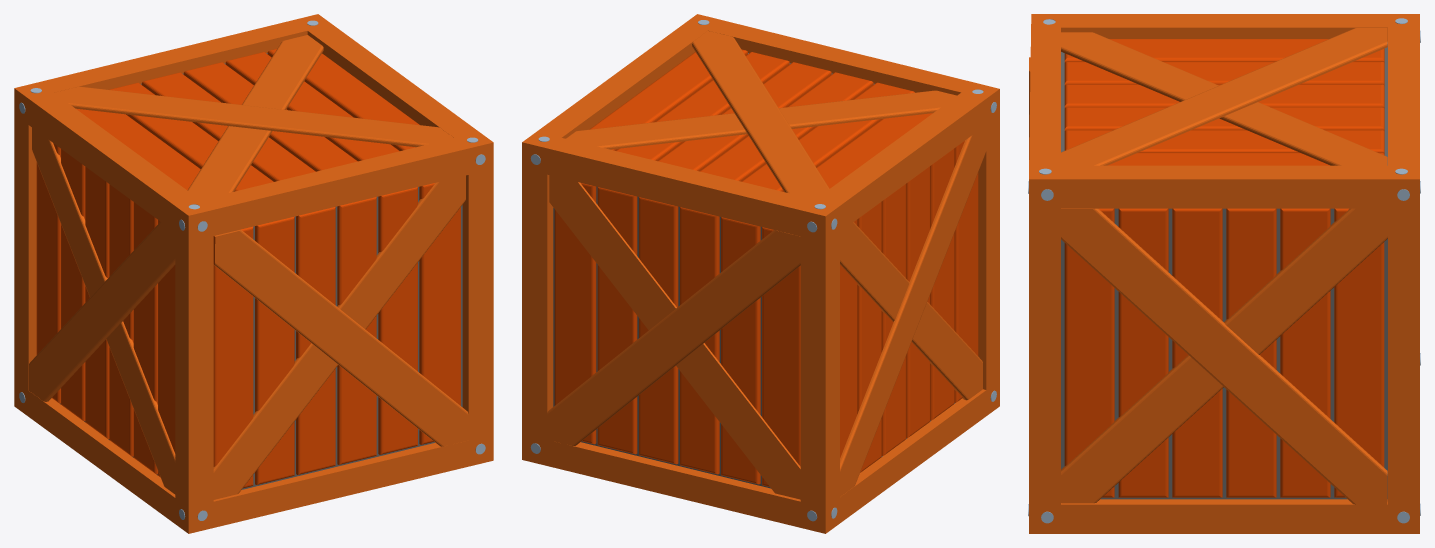
The model's file is 6x2 kutija final.fbx.
3 renders of one model, left to right at view 1: azimuth 30°, elevation 25°; view 2: azimuth 150°, elevation 25°; view 3: azimuth 270°, elevation 25°, orthographic. The views are drawn at different scales.
Parts seen in each view (by area): view 1: Cube.208; view 2: Cube.208; view 3: Cube.208.
Part boxes in pixels (x1,y1,x2,y2): Cube.208: (14, 14, 493, 533); Cube.208: (522, 14, 999, 533); Cube.208: (1028, 14, 1420, 533).
Bounding box in the file's own units: 201 × 200 × 201.
